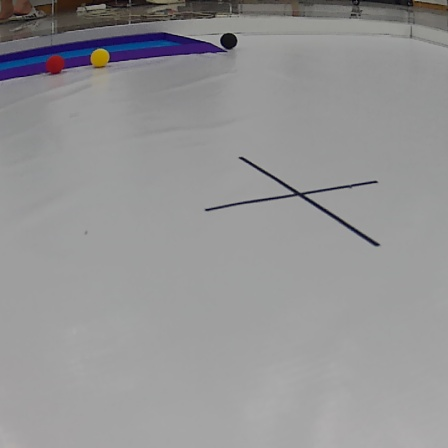black: (220, 32, 239, 51)
blue_aim: (0, 31, 232, 82)
red: (45, 55, 64, 74)
yellow: (90, 50, 110, 67)
